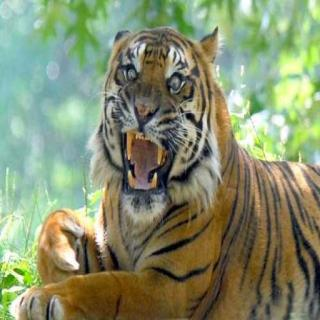Tiger: (15, 19, 320, 320)
